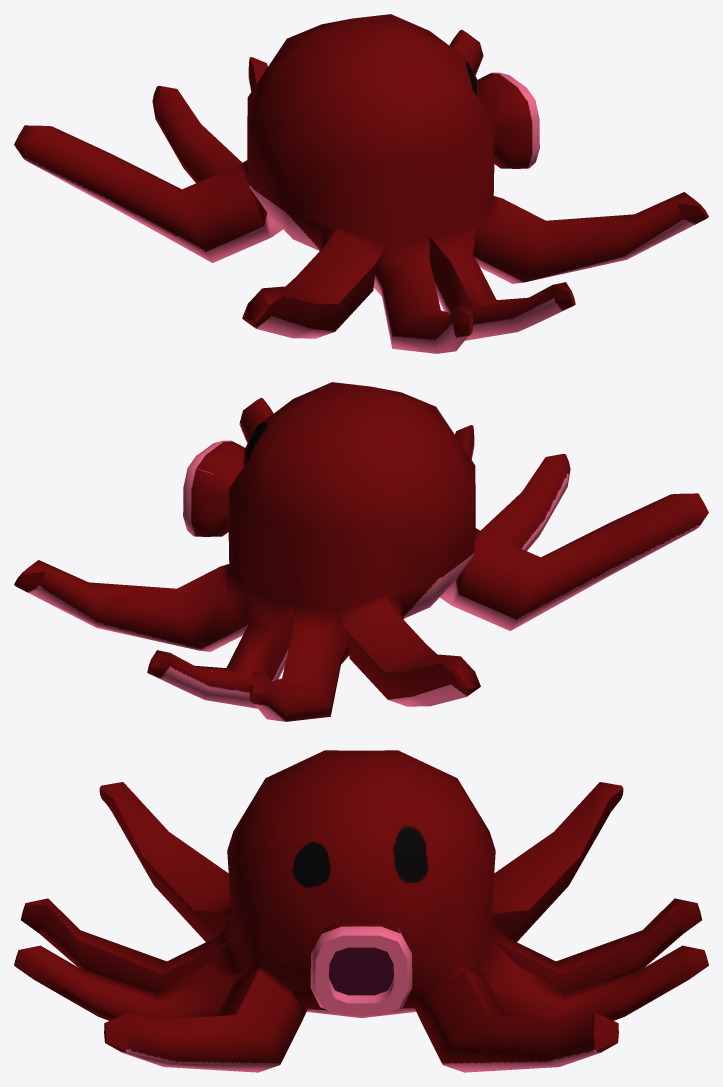
The model's file is octopus.fbx.
3 renders of one model, top to bottom at view 1: azimuth 30°, elevation 25°; view 2: azimuth 150°, elevation 25°; view 3: azimuth 270°, elevation 25°, orthographic. The views are drawn at different scales.
Visible parts, largest first — view 1: octopus; view 2: octopus; view 3: octopus.
Part boxes in pixels (bbox=[...]): octopus: bbox=[14, 14, 708, 353]; octopus: bbox=[14, 382, 708, 721]; octopus: bbox=[14, 750, 708, 1072].
Size of the model in its own units: 11.36 by 6.02 by 13.88.
1 material, 1 textured.
